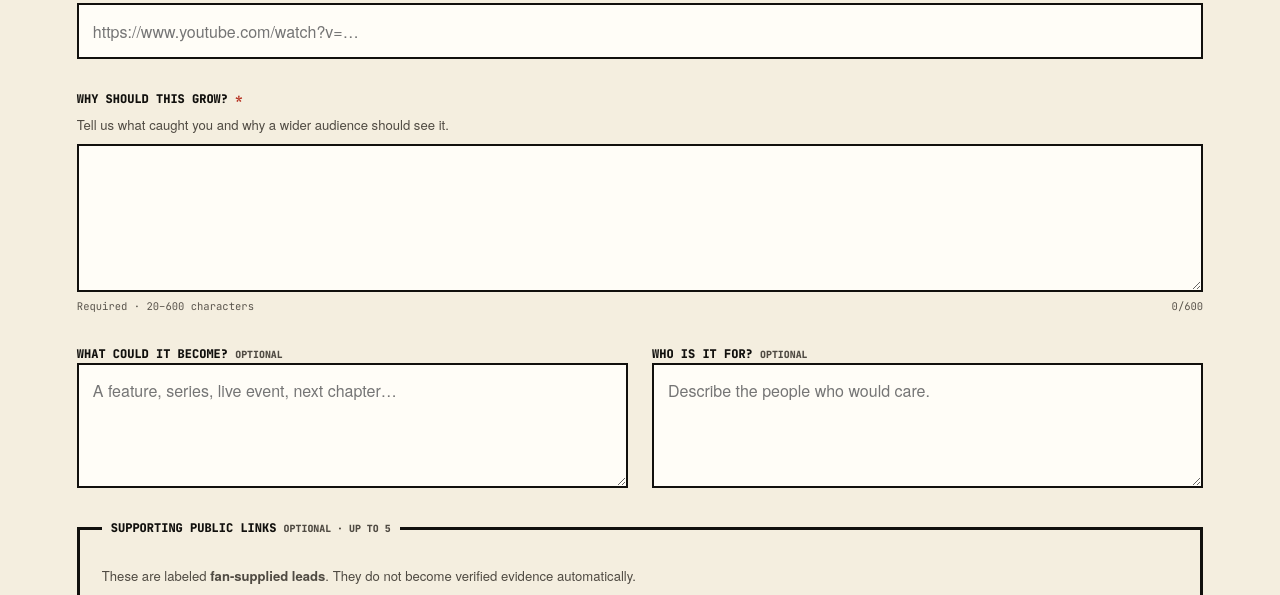
NominationForm › validates required fields without clearing entered input
(page scrolled)
In the text box labelled "Why should this grow? *": (640,218) left=77, top=144, right=1203, bottom=292, type "Too short"
(page scrolled)
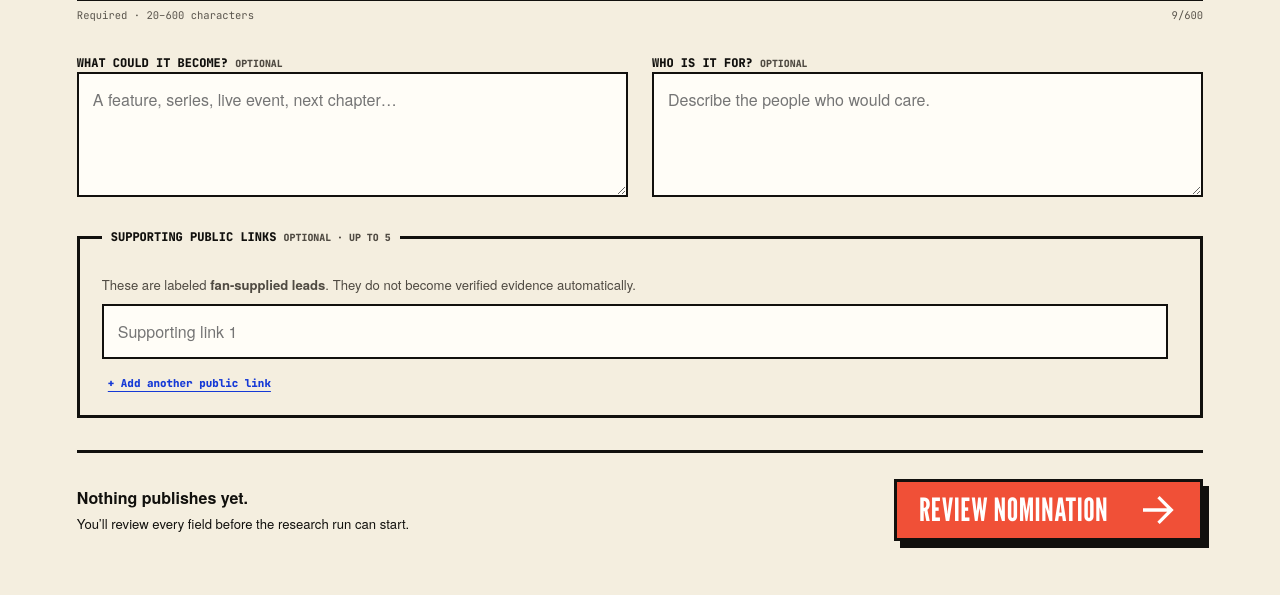
Click the button "Review nomination": (1049,510) left=894, top=479, right=1203, bottom=541
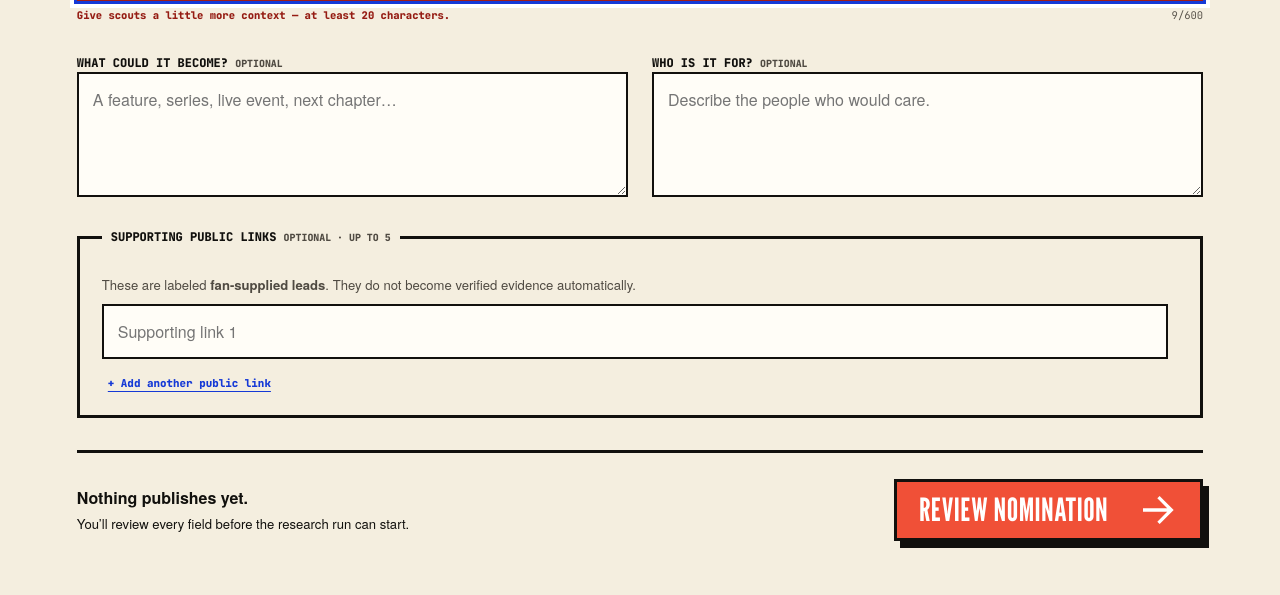
Check: the text "Give scouts a little more context — at least 20 characters." is shown, box left=77, top=8, right=450, bottom=22
